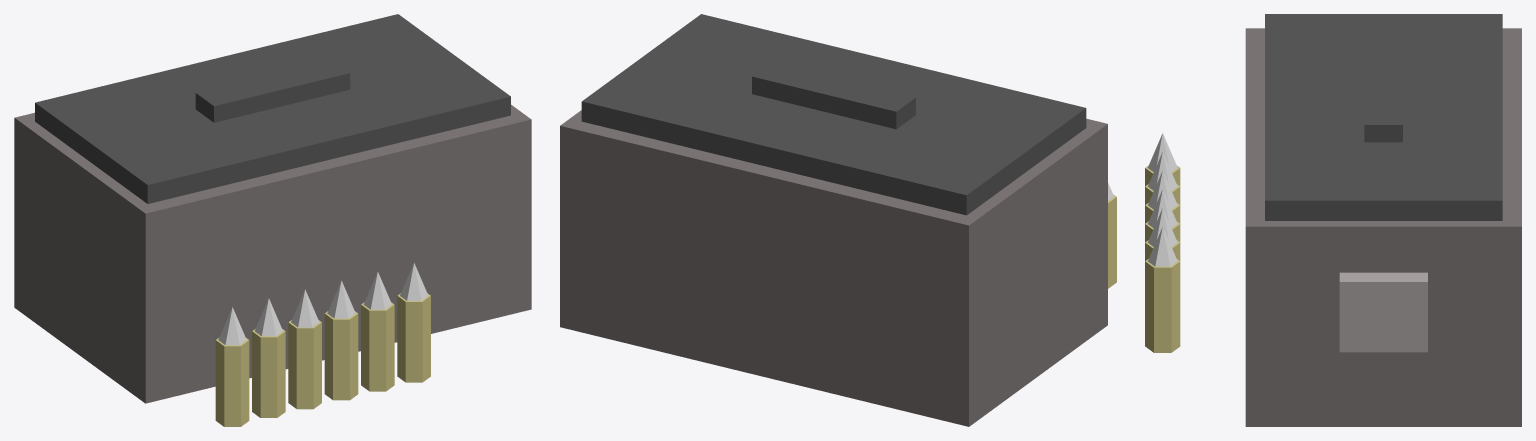
File: ce_ammo_highcal_ap_c.obj
3 renders of one model, left to right at view 1: azimuth 30°, elevation 25°; view 2: azimuth 150°, elevation 25°; view 3: azimuth 270°, elevation 25°, orthographic. The views are drawn at different scales.
Visible parts, largest first — view 1: ce_ammo_highcal_ap_c_0, ce_ammo_highcal_ap_c_1, ce_ammo_highcal_ap_c_2, ce_ammo_highcal_ap_c_10, ce_ammo_highcal_ap_c_4, ce_ammo_highcal_ap_c_8, ce_ammo_highcal_ap_c_12, ce_ammo_highcal_ap_c_14, ce_ammo_highcal_ap_c_6, ce_ammo_highcal_ap_c_5, ce_ammo_highcal_ap_c_7, ce_ammo_highcal_ap_c_9 (+3 smaller); view 2: ce_ammo_highcal_ap_c_0, ce_ammo_highcal_ap_c_1, ce_ammo_highcal_ap_c_2, ce_ammo_highcal_ap_c_4; view 3: ce_ammo_highcal_ap_c_0, ce_ammo_highcal_ap_c_1, ce_ammo_highcal_ap_c_3, ce_ammo_highcal_ap_c_2, ce_ammo_highcal_ap_c_14, ce_ammo_highcal_ap_c_15, ce_ammo_highcal_ap_c_9, ce_ammo_highcal_ap_c_11, ce_ammo_highcal_ap_c_5, ce_ammo_highcal_ap_c_7, ce_ammo_highcal_ap_c_13.
Boxes of the visible parts, bbox=[...] form: ce_ammo_highcal_ap_c_0: bbox=[14, 104, 531, 403]; ce_ammo_highcal_ap_c_1: bbox=[35, 14, 510, 203]; ce_ammo_highcal_ap_c_2: bbox=[195, 59, 350, 122]; ce_ammo_highcal_ap_c_10: bbox=[324, 311, 358, 400]; ce_ammo_highcal_ap_c_4: bbox=[215, 338, 249, 426]; ce_ammo_highcal_ap_c_8: bbox=[288, 320, 321, 409]; ce_ammo_highcal_ap_c_12: bbox=[361, 302, 394, 391]; ce_ammo_highcal_ap_c_14: bbox=[397, 293, 430, 382]; ce_ammo_highcal_ap_c_6: bbox=[252, 329, 285, 417]; ce_ammo_highcal_ap_c_5: bbox=[218, 307, 246, 345]; ce_ammo_highcal_ap_c_7: bbox=[255, 298, 282, 336]; ce_ammo_highcal_ap_c_9: bbox=[291, 289, 319, 327]; ce_ammo_highcal_ap_c_0: bbox=[560, 110, 1107, 426]; ce_ammo_highcal_ap_c_1: bbox=[581, 14, 1086, 215]; ce_ammo_highcal_ap_c_2: bbox=[752, 62, 915, 129]; ce_ammo_highcal_ap_c_4: bbox=[1108, 194, 1116, 288]; ce_ammo_highcal_ap_c_0: bbox=[1245, 28, 1521, 426]; ce_ammo_highcal_ap_c_1: bbox=[1265, 14, 1502, 220]; ce_ammo_highcal_ap_c_3: bbox=[1339, 272, 1427, 352]; ce_ammo_highcal_ap_c_2: bbox=[1364, 55, 1402, 142]; ce_ammo_highcal_ap_c_14: bbox=[1145, 259, 1180, 352]; ce_ammo_highcal_ap_c_15: bbox=[1148, 226, 1177, 266]; ce_ammo_highcal_ap_c_9: bbox=[1148, 170, 1177, 209]; ce_ammo_highcal_ap_c_11: bbox=[1148, 189, 1177, 228]; ce_ammo_highcal_ap_c_5: bbox=[1148, 133, 1177, 171]; ce_ammo_highcal_ap_c_7: bbox=[1148, 152, 1177, 190]; ce_ammo_highcal_ap_c_13: bbox=[1148, 208, 1177, 246].
Size of the model in its own units: 0.89 by 0.475 by 0.682.
